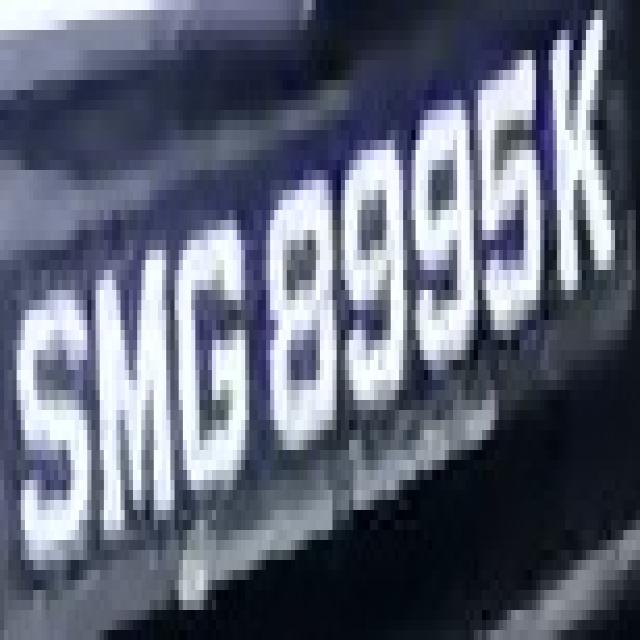5: (462, 60, 544, 350)
8: (258, 180, 345, 500)
9: (320, 120, 411, 450), (391, 90, 486, 400)
G: (166, 200, 262, 510)
K: (536, 0, 632, 330)
M: (75, 240, 170, 550)
S: (4, 260, 92, 600)
